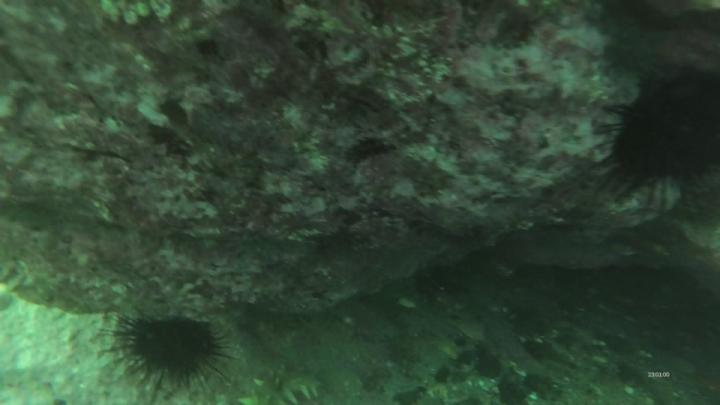echinus: (619, 79, 720, 185), (130, 321, 217, 379)
holothurian: (236, 372, 327, 405)
